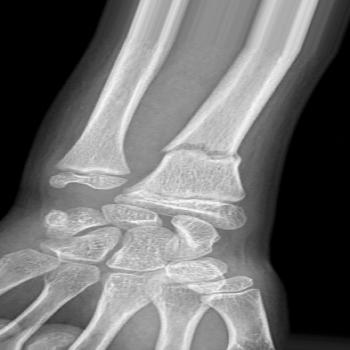Fracture: (154, 131, 251, 170)
